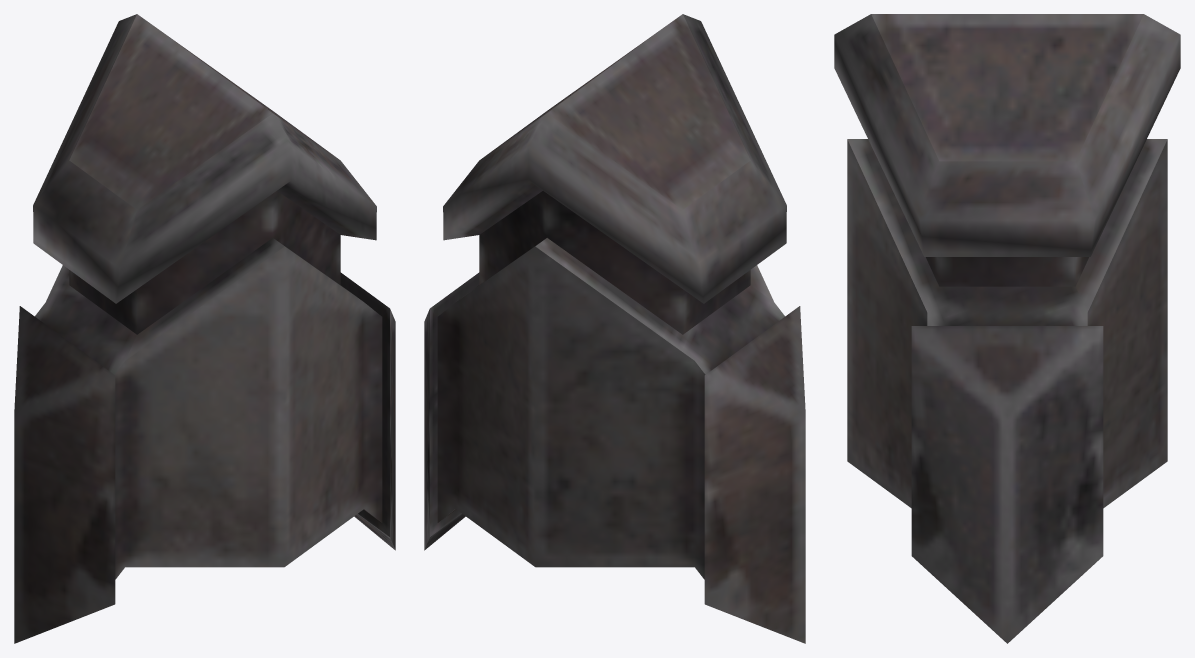
The model's file is sm_dwarf_iron_axe_pommel_a.fbx.
3 views of the same model, side by side, from view 1: azimuth 30°, elevation 25°; view 2: azimuth 150°, elevation 25°; view 3: azimuth 270°, elevation 25° (orthographic).
Parts seen in each view (by area): view 1: sm_dwarf_iron_axe_pommel_a; view 2: sm_dwarf_iron_axe_pommel_a; view 3: sm_dwarf_iron_axe_pommel_a.
Boxes of the visible parts, x1,y1,x2,y2 form: sm_dwarf_iron_axe_pommel_a: (14, 14, 395, 643); sm_dwarf_iron_axe_pommel_a: (424, 14, 805, 643); sm_dwarf_iron_axe_pommel_a: (834, 14, 1180, 643).
Size of the model in its own units: 0.1072 by 0.0838 by 0.1432.
Materials: 1 (1 with a texture image).
